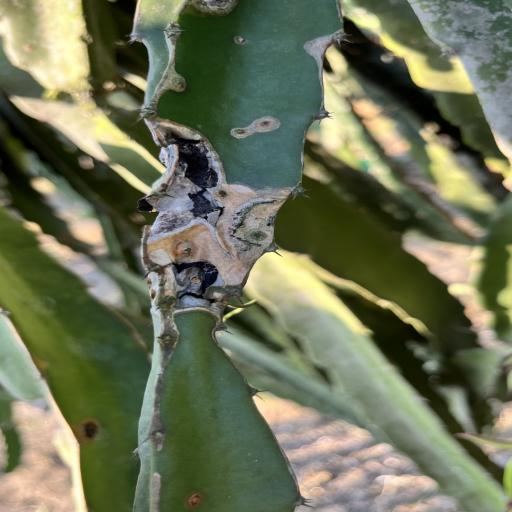stemcanker: (209, 116, 283, 141), (176, 487, 216, 510), (216, 29, 256, 51), (184, 492, 213, 512), (229, 34, 257, 53), (192, 123, 206, 130), (252, 458, 260, 464), (220, 377, 226, 380)
